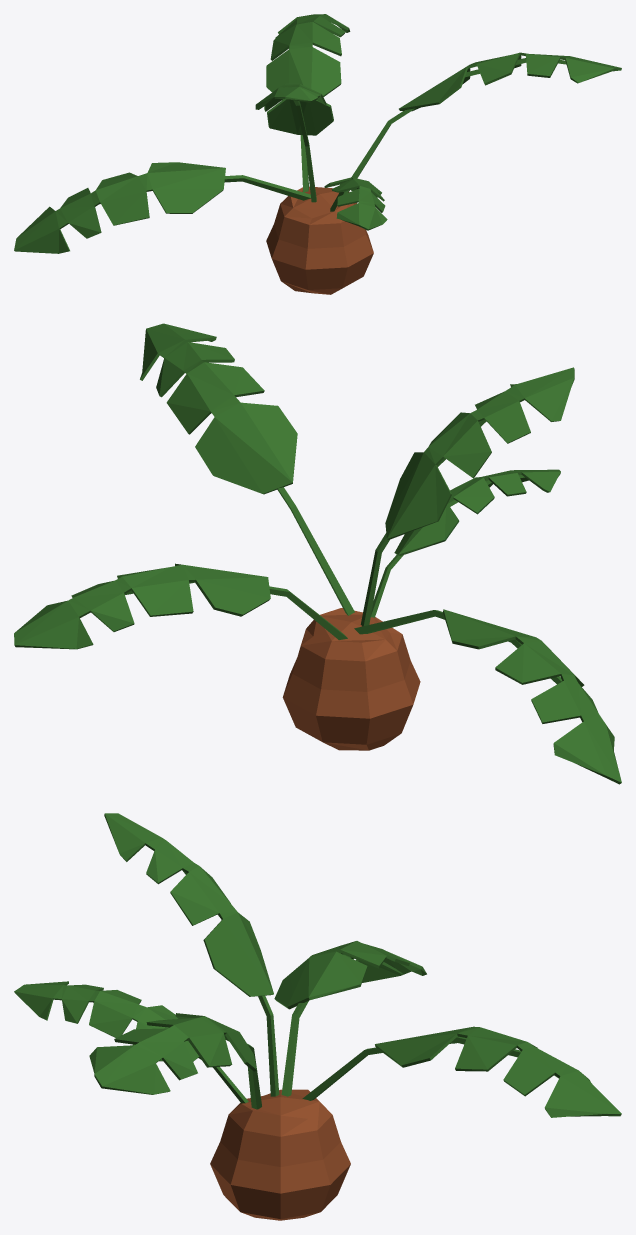
Rendered from bunker47-prop-palm11.glb.
3 views of the same model, one above another, from view 1: azimuth 30°, elevation 25°; view 2: azimuth 150°, elevation 25°; view 3: azimuth 270°, elevation 25° (orthographic). The views are drawn at different scales.
Visible parts, largest first — view 1: Tree_Tropic_011; view 2: Tree_Tropic_011; view 3: Tree_Tropic_011.
Part boxes in pixels (x1,y1,x2,y2): Tree_Tropic_011: [14, 14, 621, 294]; Tree_Tropic_011: [14, 323, 621, 784]; Tree_Tropic_011: [14, 813, 621, 1220].
Bounding box in the file's own units: 585 × 302 × 497.
1 material, 1 textured.
